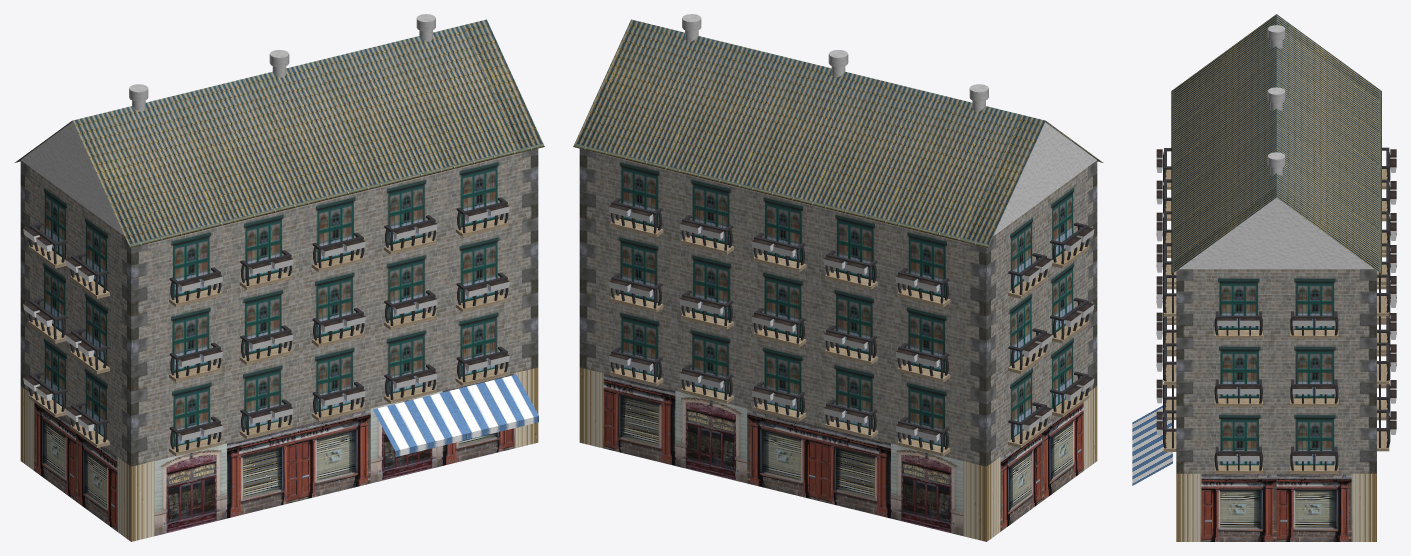
Rendered from House_002.dae.
3 views of the same model, side by side, from view 1: azimuth 30°, elevation 25°; view 2: azimuth 150°, elevation 25°; view 3: azimuth 270°, elevation 25° (orthographic). The views are drawn at different scales.
Visible parts, largest first — view 1: House_002; view 2: House_002; view 3: House_002.
Part boxes in pixels (x1,y1,x2,y2): House_002: (14,14,544,541); House_002: (573,14,1103,541); House_002: (1132,14,1396,541).
Bounding box in the file's own units: 149 × 84.3 × 127.
